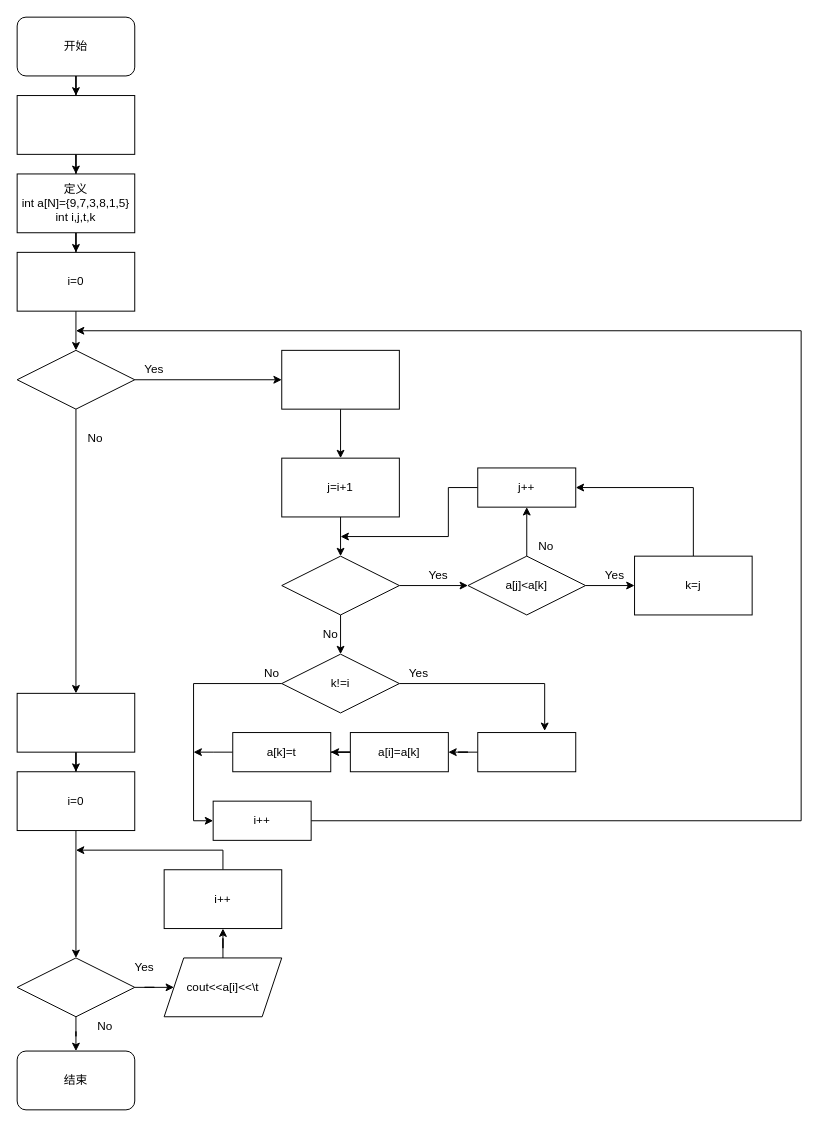
The diagram is 826 pixels wide and 1127 high, and some of its shapes have lost their labels. Here are the shapes that lost their labels. From the top down, the centre of each, then its label:
At point 75,124: "定义N=6".
At point 75,379: "i<N-1".
At point 340,379: "k=i".
At point 340,585: "j<N".
At point 75,722: "输出“选择法排序后的数组为：”".
At point 526,752: "t=a[i]".
At point 75,987: "i<N".
